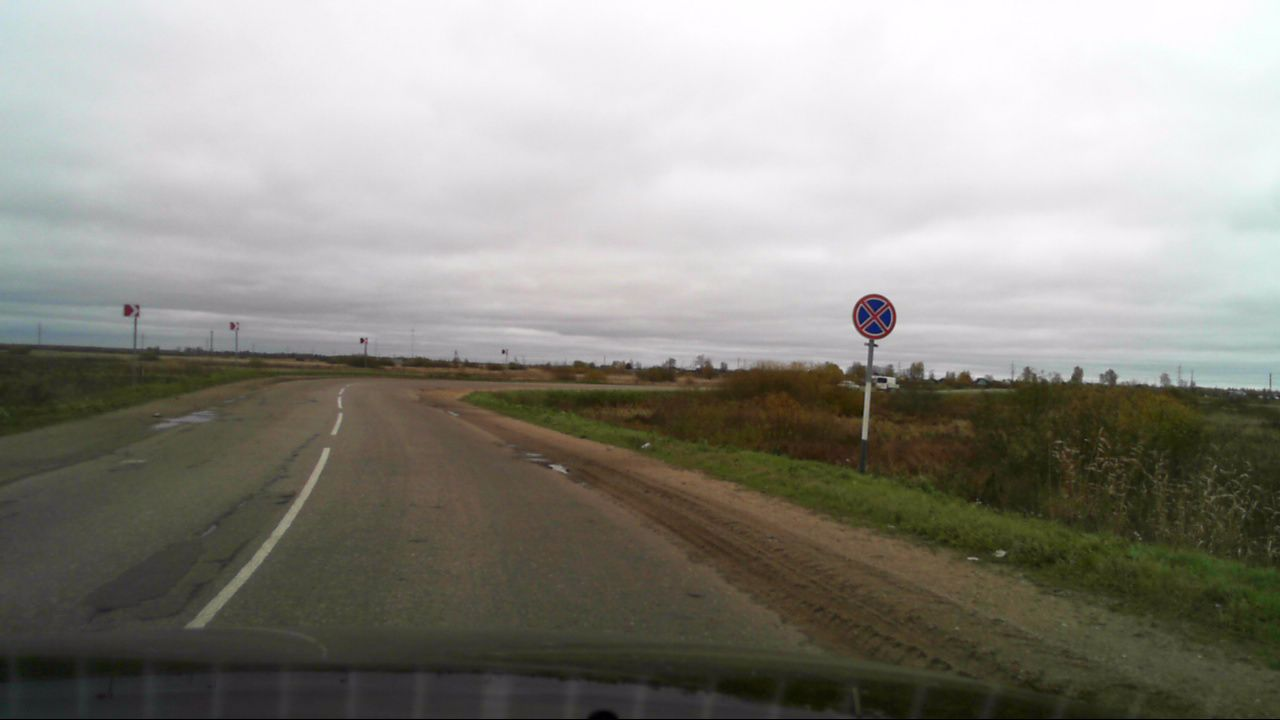No Parking: (852, 293, 896, 339)
